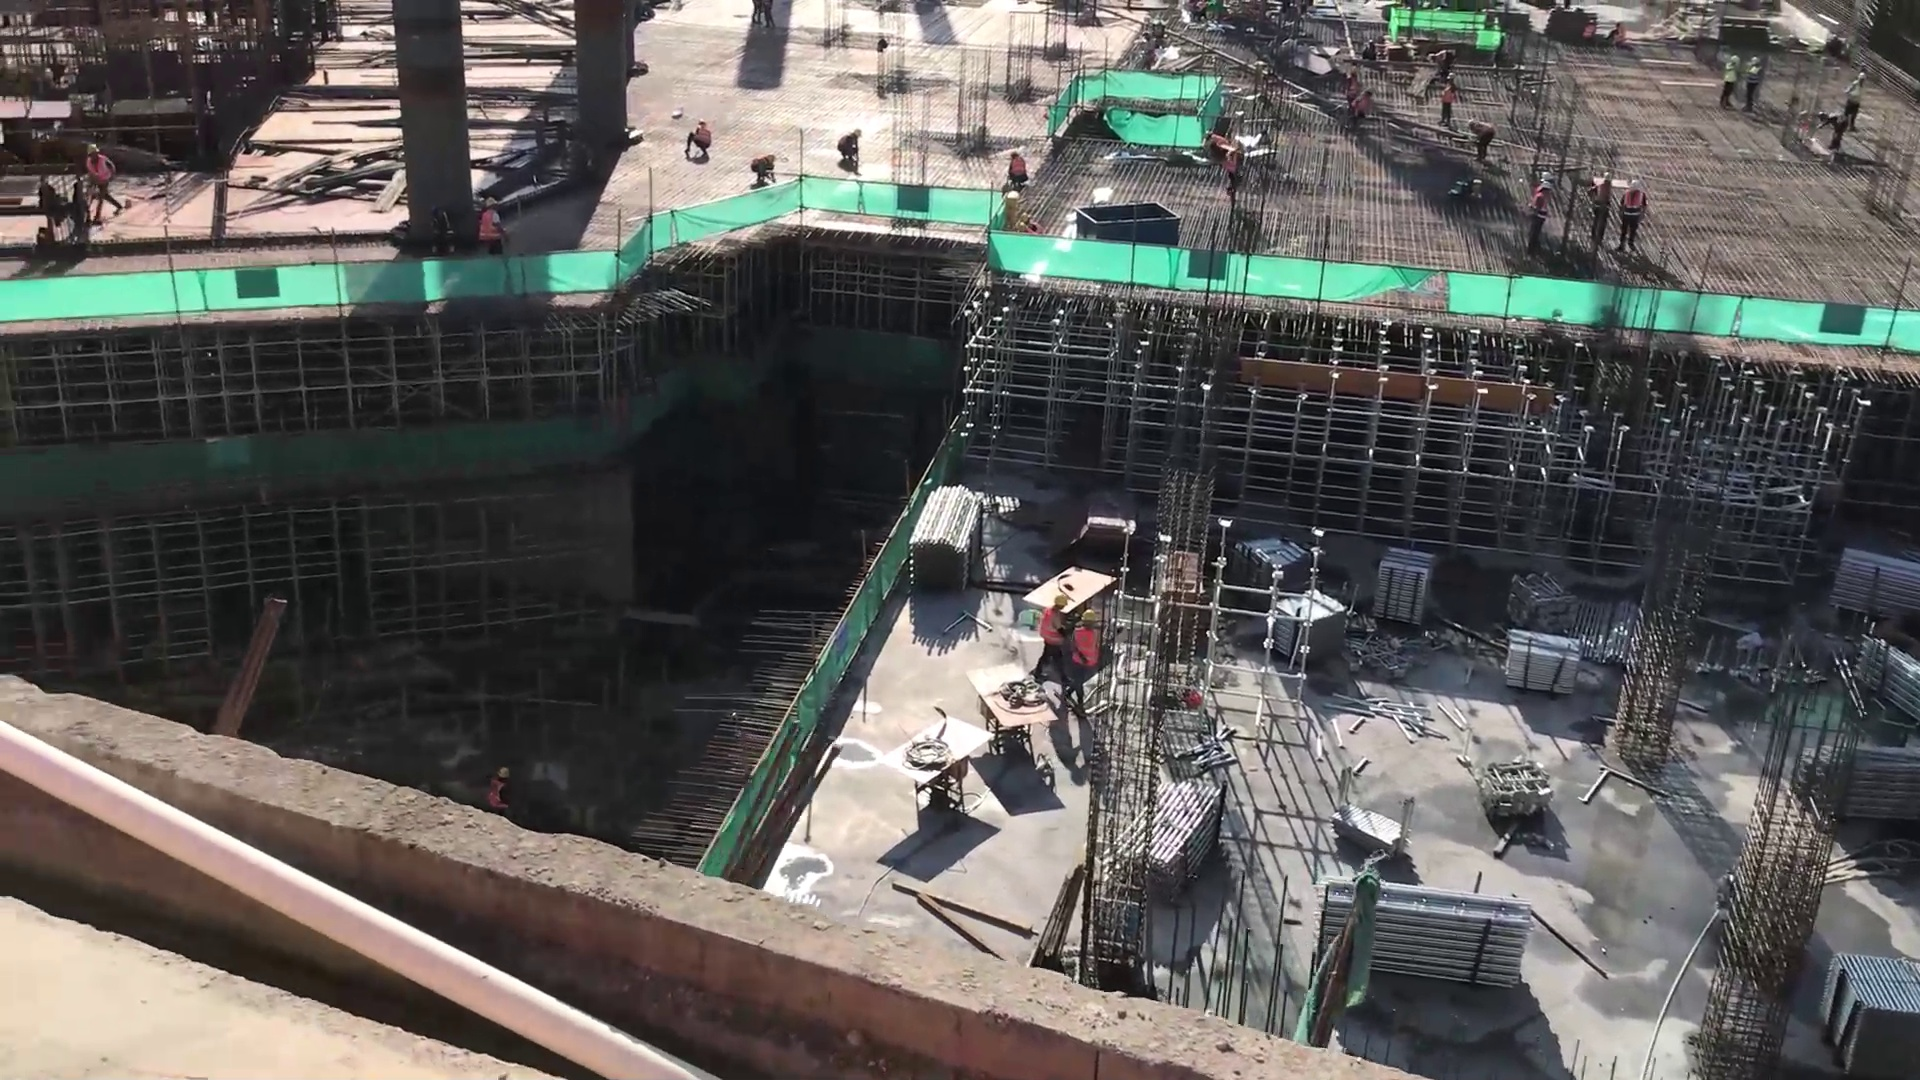helmet: (1047, 592, 1068, 609), (1081, 609, 1099, 627), (1630, 178, 1643, 191), (1727, 53, 1739, 65), (1853, 70, 1866, 80), (852, 127, 863, 139), (1747, 57, 1760, 66), (1541, 170, 1552, 181), (1604, 170, 1613, 182)
person: (82, 143, 126, 222), (1033, 594, 1068, 687), (1071, 609, 1098, 714), (1620, 174, 1645, 255), (477, 197, 509, 258), (1590, 172, 1615, 234), (835, 127, 866, 176), (1717, 53, 1743, 111), (1817, 108, 1848, 156), (680, 117, 712, 162), (1531, 178, 1553, 239), (1844, 71, 1866, 130), (1468, 119, 1497, 159), (748, 151, 777, 190), (1005, 149, 1030, 191), (1440, 71, 1457, 131), (1746, 56, 1761, 115), (1352, 88, 1374, 122), (1204, 129, 1227, 162), (1346, 59, 1358, 100)
scaffold: (1292, 863, 1546, 1001), (894, 461, 1013, 635), (1138, 779, 1238, 894)
vest: (1073, 628, 1100, 668), (1038, 610, 1066, 647)
